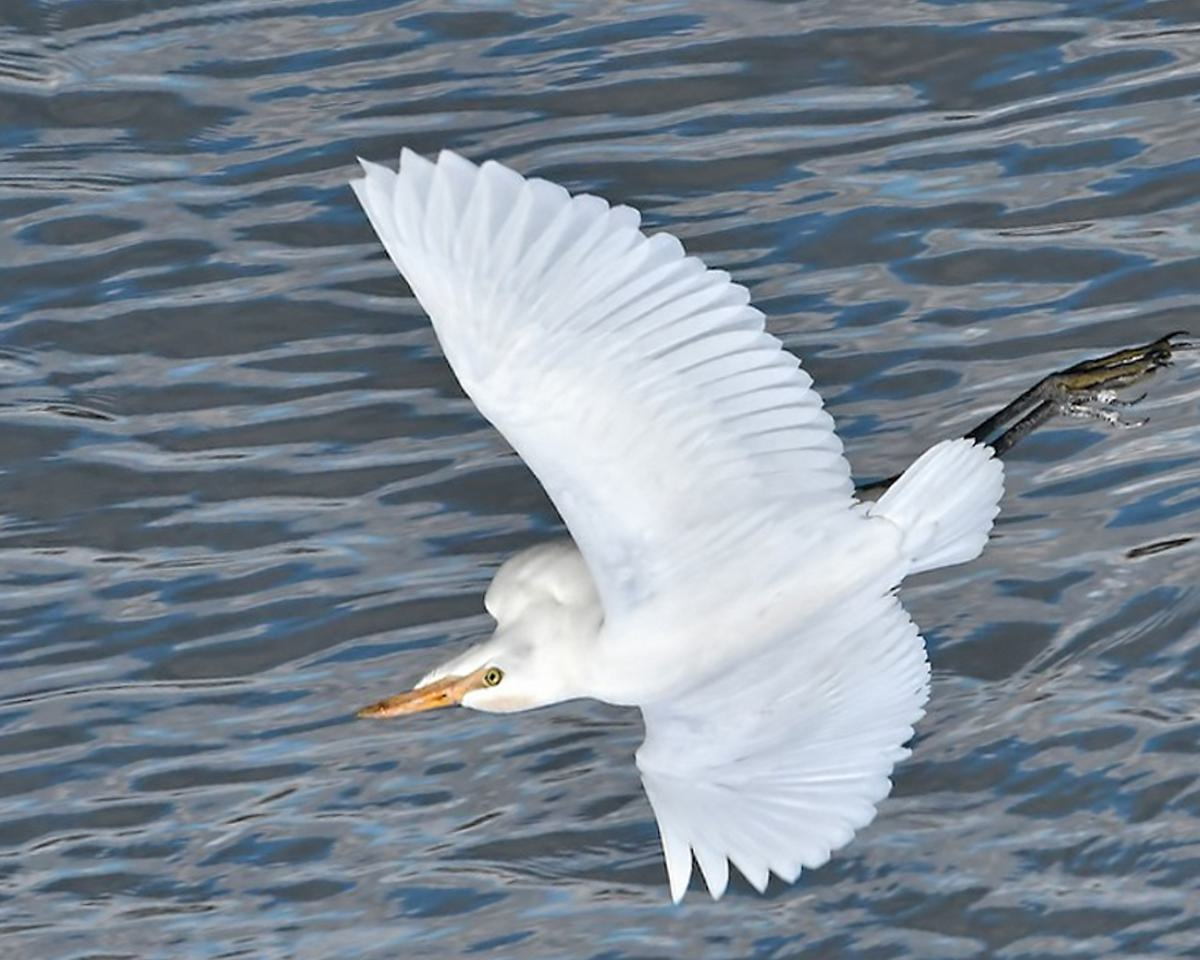egret: (329, 115, 1172, 924)
